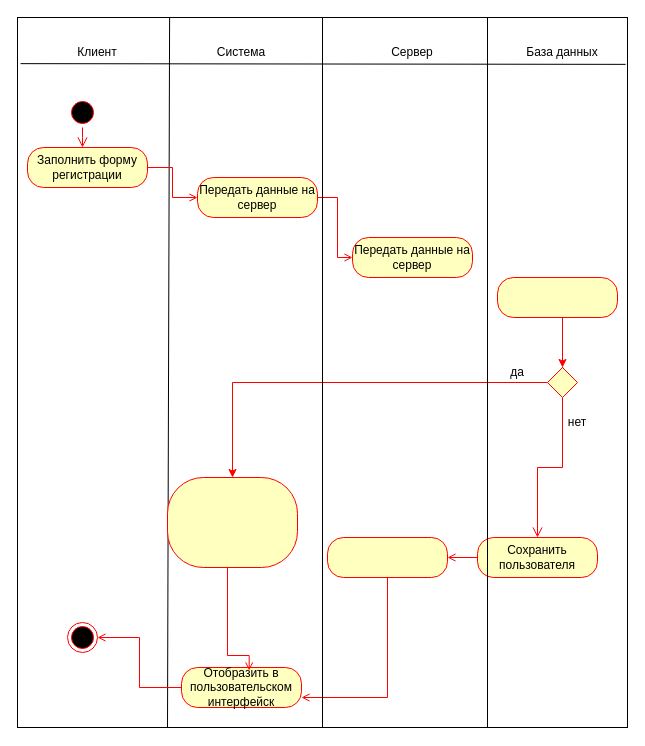
This 645x746 diagram has some shape labels left out. Here are the shapes that lost their labels. From the top down, the centre of each, then its label:
point (557, 297): email Зарегистрирован?
point (232, 522): Отобразить в ошибку("Пользователь уже зарегистрирован")
point (387, 557): Отобразить изменения
